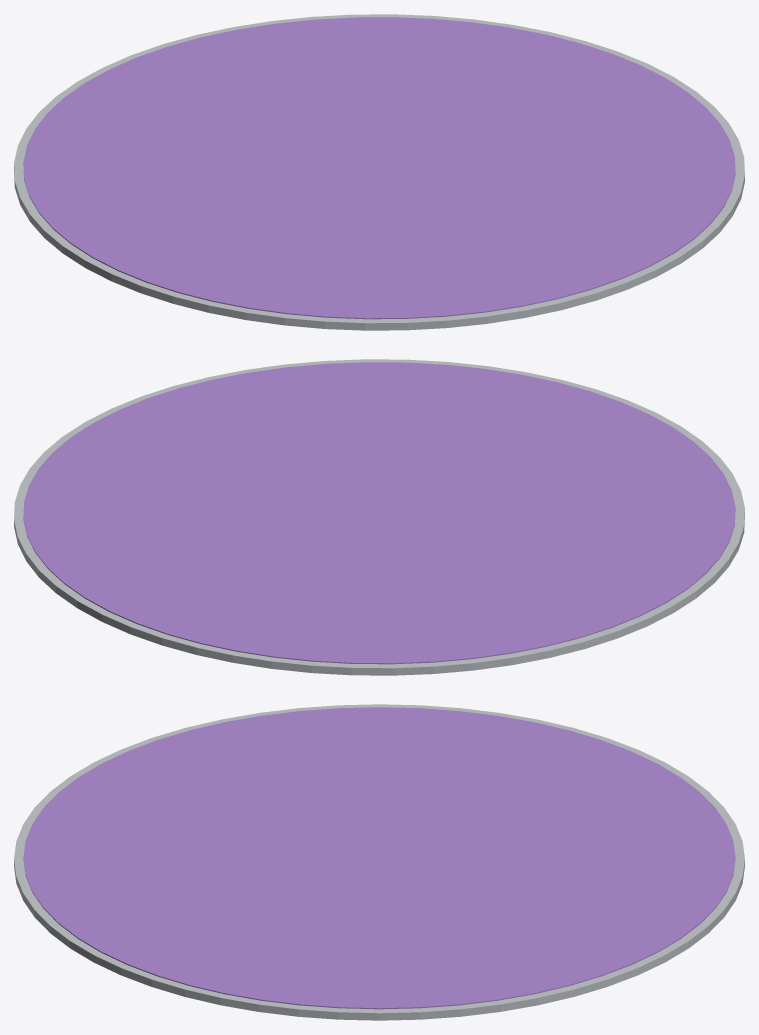
File: 23_L76_AnodeSeparatorMembrane.glb
3 views of the same model, one above another, from view 1: azimuth 30°, elevation 25°; view 2: azimuth 150°, elevation 25°; view 3: azimuth 270°, elevation 25° (orthographic).
Visible parts, largest first — view 1: AnodeSeparatorMembrane_Node_0000, AnodeSeparatorMembrane_Node_0001; view 2: AnodeSeparatorMembrane_Node_0000, AnodeSeparatorMembrane_Node_0001; view 3: AnodeSeparatorMembrane_Node_0000, AnodeSeparatorMembrane_Node_0001.
Part boxes in pixels (x1,y1,x2,y2): AnodeSeparatorMembrane_Node_0000: [23, 17, 735, 319]; AnodeSeparatorMembrane_Node_0001: [14, 14, 744, 330]; AnodeSeparatorMembrane_Node_0000: [23, 362, 735, 664]; AnodeSeparatorMembrane_Node_0001: [14, 359, 744, 675]; AnodeSeparatorMembrane_Node_0000: [23, 707, 735, 1009]; AnodeSeparatorMembrane_Node_0001: [14, 704, 744, 1020].
Size of the model in its own units: 3.12 by 0.04 by 3.12.
